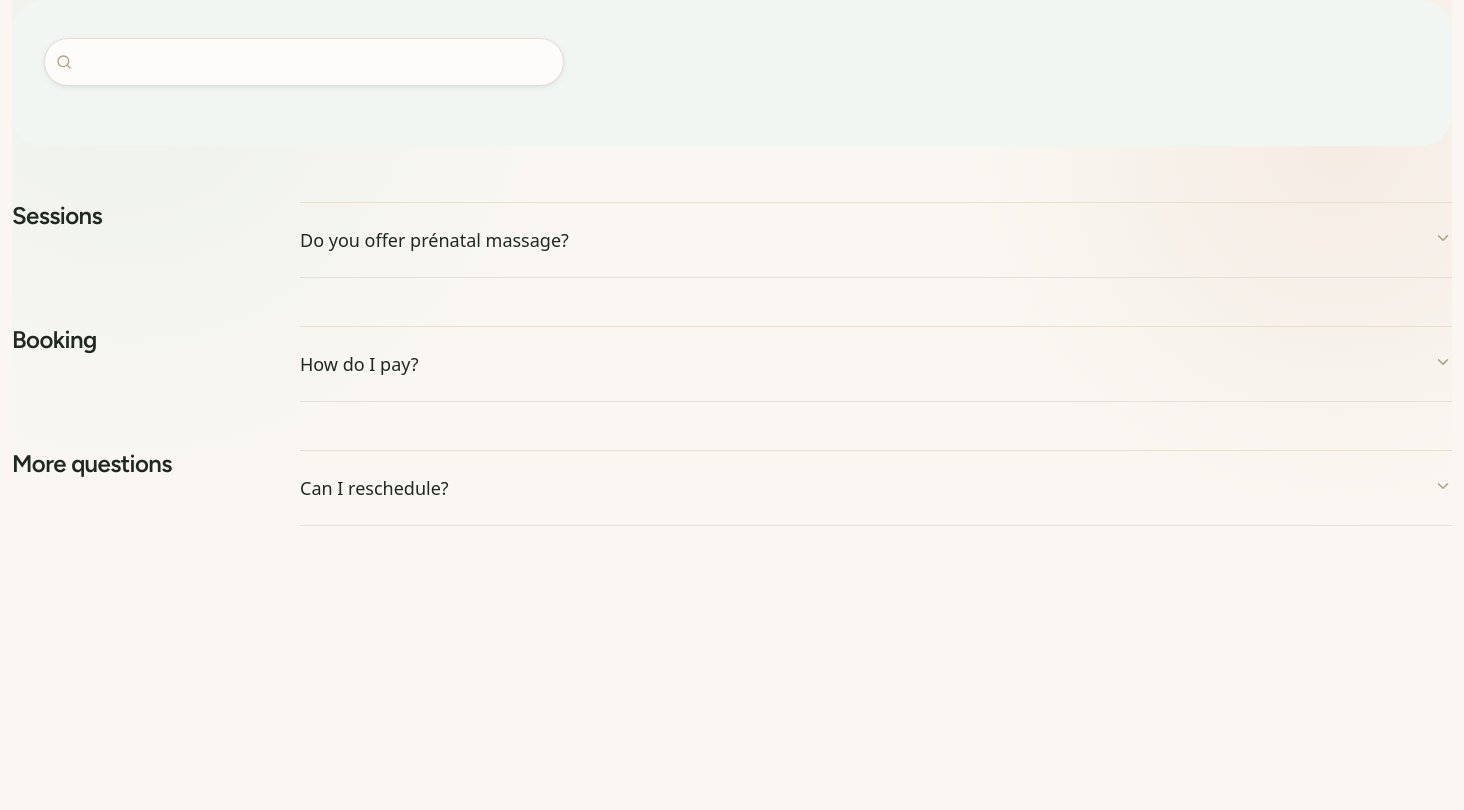
Scenario: FAQSearch › keeps answers collapsed until their question is opened
Click the button "How do I pay?": (359, 364) [300,327,1452,401]
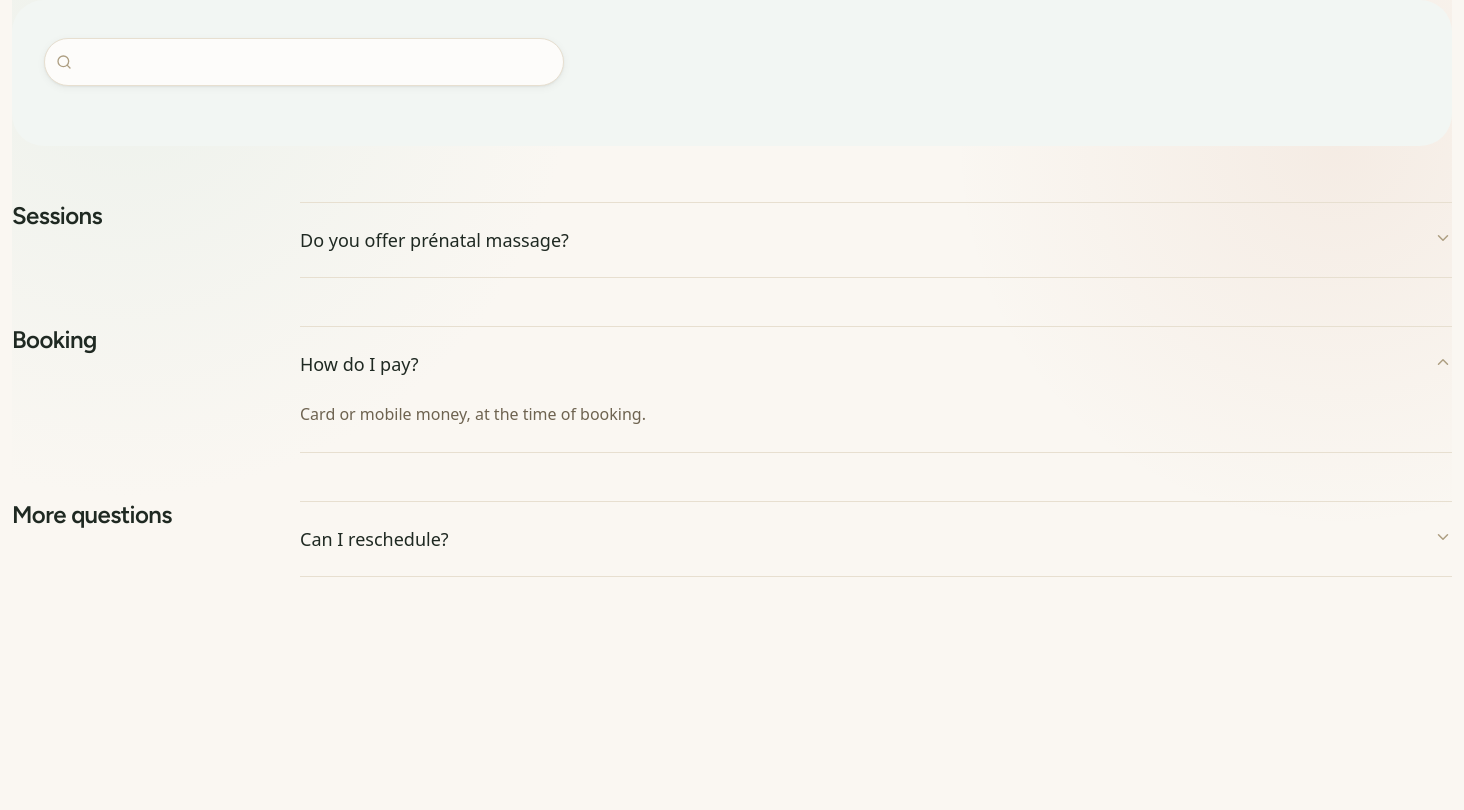
Check: the button "How do I pay?" is expanded, box [300,327,1452,401]
